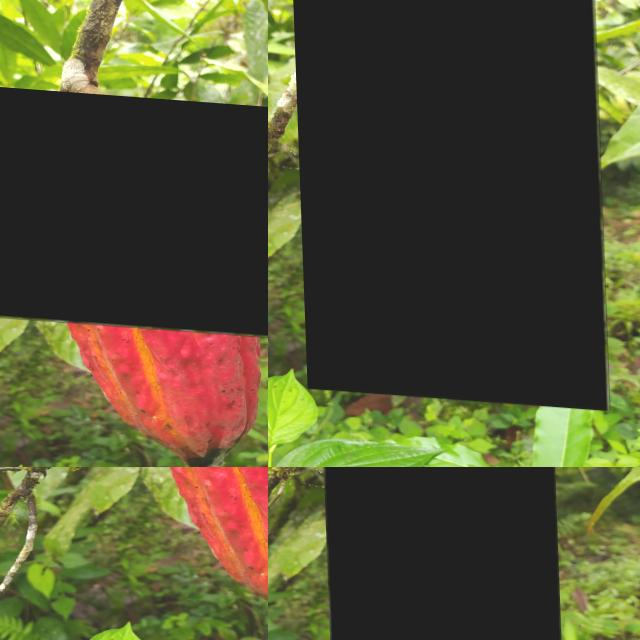Fitoftora: (317, 467, 559, 640)
Monilia: (291, 0, 606, 402), (0, 76, 268, 340)
